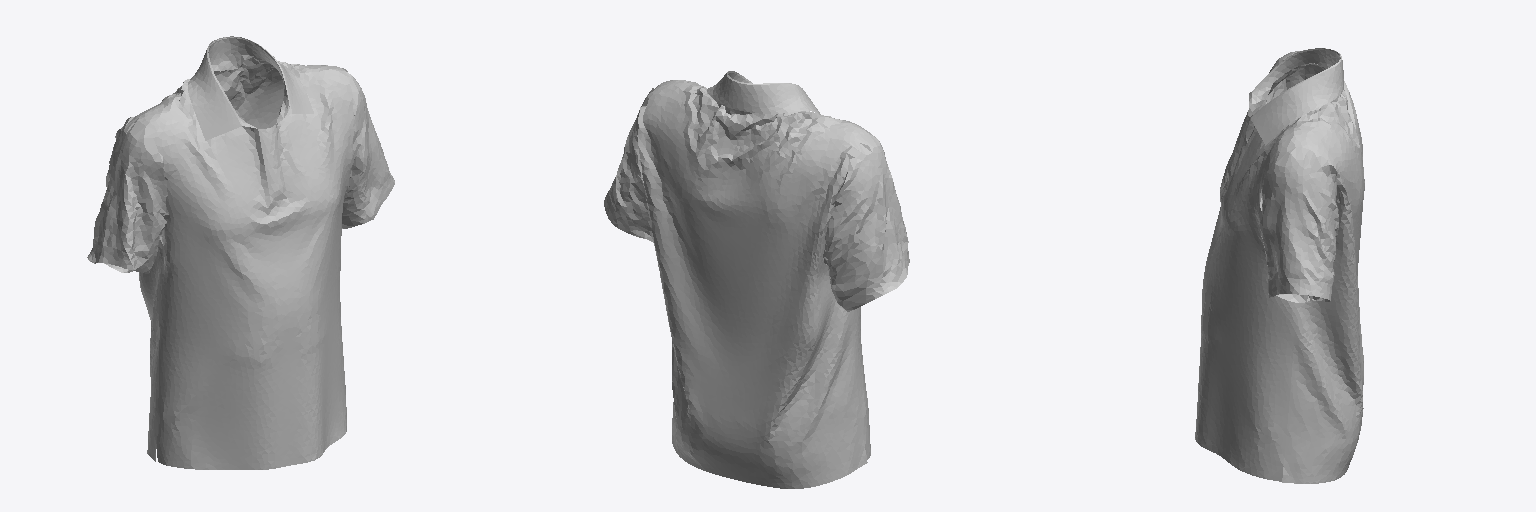
Rendered from Small_Tall.obj.
3 views of the same model, side by side, from view 1: azimuth 30°, elevation 25°; view 2: azimuth 150°, elevation 25°; view 3: azimuth 270°, elevation 25° (orthographic).
Parts seen in each view (by area): view 1: polo3-30.007; view 2: polo3-30.007; view 3: polo3-30.007.
Boxes of the visible parts, x1=… form: polo3-30.007: x1=87, y1=36, x2=394, y2=469; polo3-30.007: x1=604, y1=71, x2=909, y2=488; polo3-30.007: x1=1195, y1=48, x2=1364, y2=483.
Bounding box in the file's own units: 0.582 × 0.7379 × 0.2882.